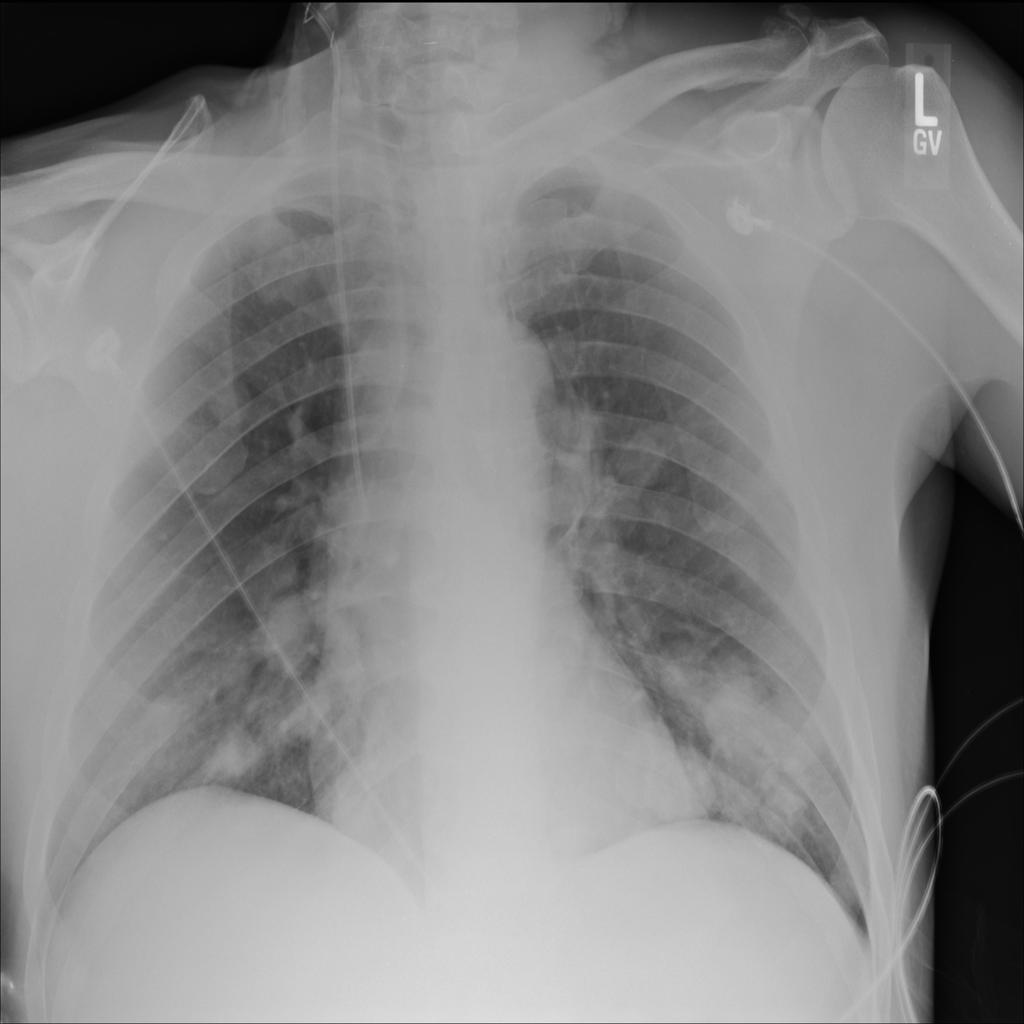nodule: (682, 653, 833, 799), (623, 728, 735, 837), (191, 717, 274, 793), (266, 667, 340, 751), (173, 431, 252, 507), (750, 764, 823, 845), (249, 594, 318, 678), (131, 679, 206, 756), (611, 413, 678, 498), (195, 364, 264, 438), (711, 526, 775, 602), (629, 491, 691, 563), (245, 538, 307, 599)
